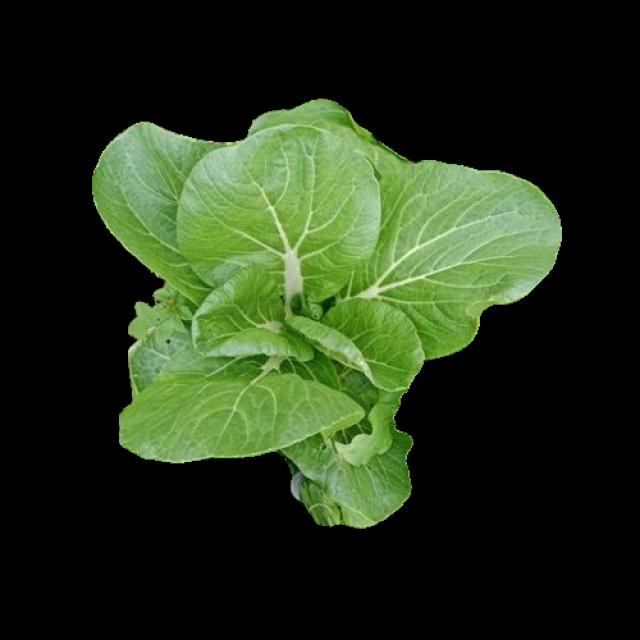mature: (92, 97, 600, 526)
unhealthy: (276, 366, 414, 522), (125, 271, 203, 398)
